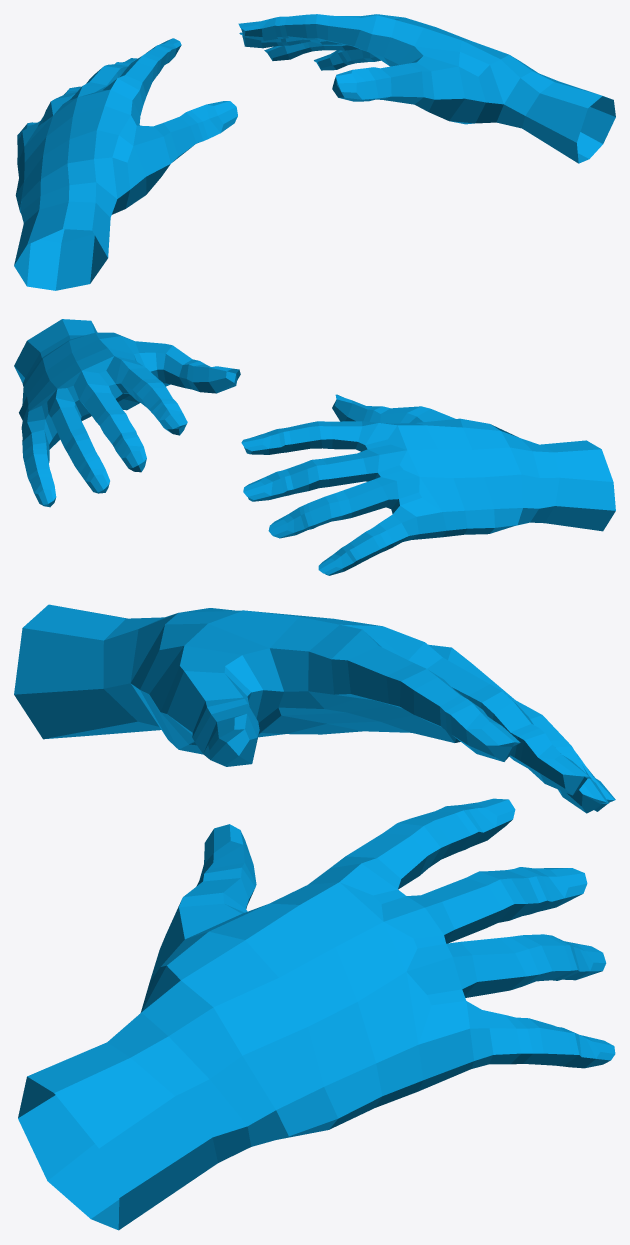
File: hands.DAE
The picture shows the model from 3 angles, top to bottom: view 1: azimuth 30°, elevation 25°; view 2: azimuth 150°, elevation 25°; view 3: azimuth 270°, elevation 25°; orthographic projection. The views are drawn at different scales.
Parts seen in each view (by area): view 1: Plane006, Plane005; view 2: Plane006, Plane005; view 3: Plane005, Plane006.
Boxes of the visible parts, x1,y1,x2,y2 form: Plane006: (14,38,237,290); Plane005: (238,14,615,163); Plane006: (241,394,615,575); Plane005: (14,319,240,507); Plane005: (18,798,615,1230); Plane006: (14,604,615,813).
Bounding box in the file's own units: 75.78 × 14.91 × 35.38.
1 material, 1 textured.
